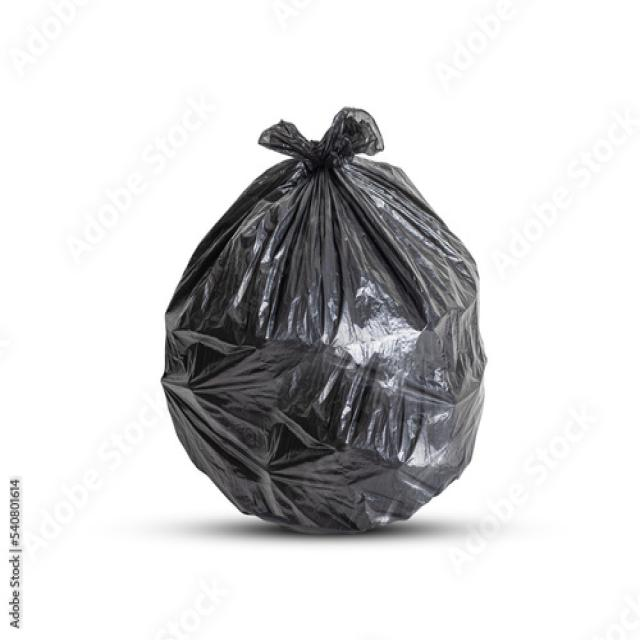trash: (110, 95, 511, 550)
